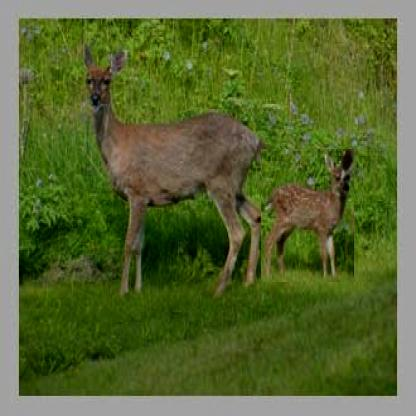Deer: (77, 40, 270, 303), (261, 149, 354, 282)
